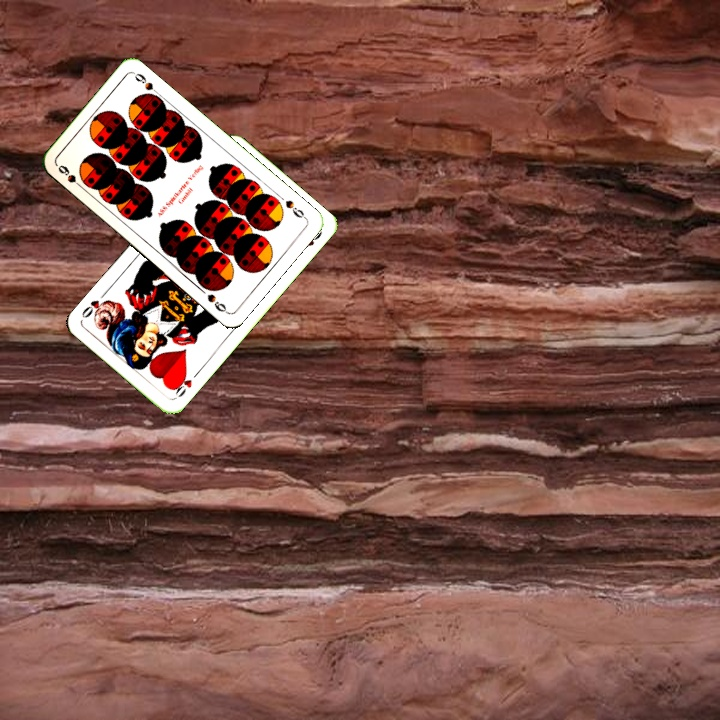HO: (169, 368, 201, 400)
S9: (54, 161, 87, 192), (281, 196, 309, 222)
